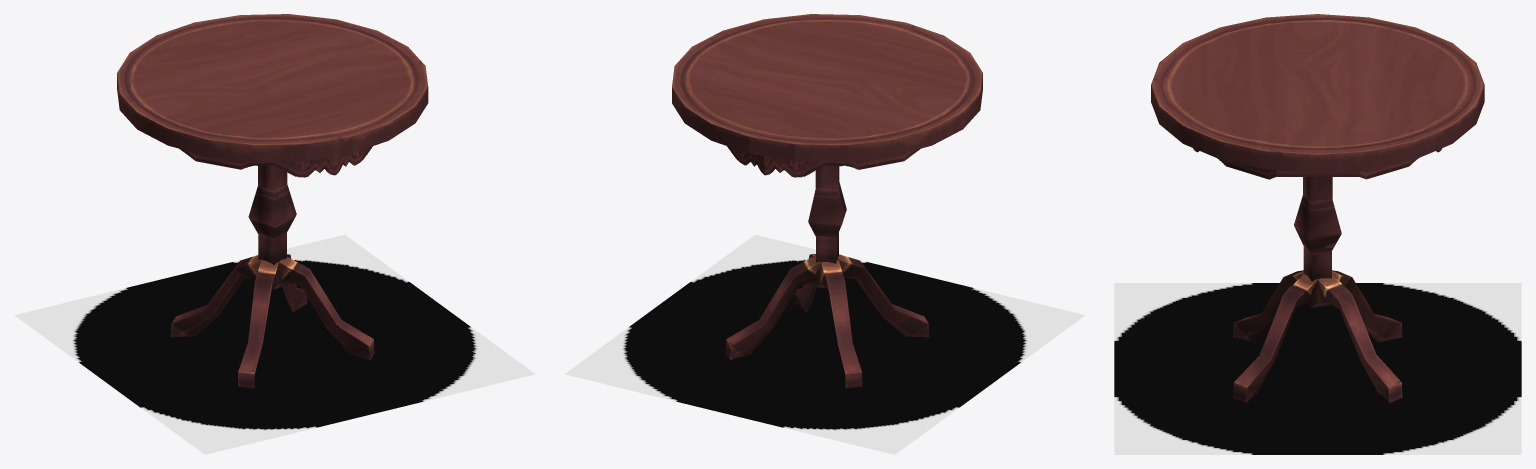
Rendered from jj_ty_table03_01.FBX.
3 renders of one model, left to right at view 1: azimuth 30°, elevation 25°; view 2: azimuth 150°, elevation 25°; view 3: azimuth 270°, elevation 25°, orthographic. The views are drawn at different scales.
Parts seen in each view (by area): view 1: yiying, jj_ty_table03_01; view 2: yiying, jj_ty_table03_01; view 3: yiying, jj_ty_table03_01.
Boxes of the visible parts, bbox=[...] form: yiying: bbox=[14, 234, 535, 454]; jj_ty_table03_01: bbox=[117, 14, 428, 388]; yiying: bbox=[565, 234, 1084, 454]; jj_ty_table03_01: bbox=[672, 14, 982, 388]; yiying: bbox=[1114, 283, 1521, 454]; jj_ty_table03_01: bbox=[1151, 14, 1484, 402].
Size of the model in its own units: 54.4 by 42.23 by 54.4.
Materials: 2 (2 with a texture image).
